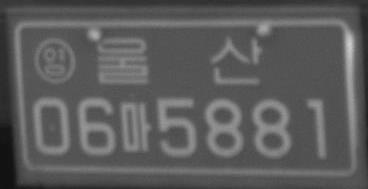0: (32, 96, 70, 155)
1: (298, 98, 337, 160)
5: (156, 95, 197, 159)
6: (77, 95, 116, 156)
8: (251, 97, 292, 159), (204, 97, 244, 158)
마: (120, 101, 151, 151)
영: (34, 36, 77, 86)
울산_D: (97, 35, 264, 85)
